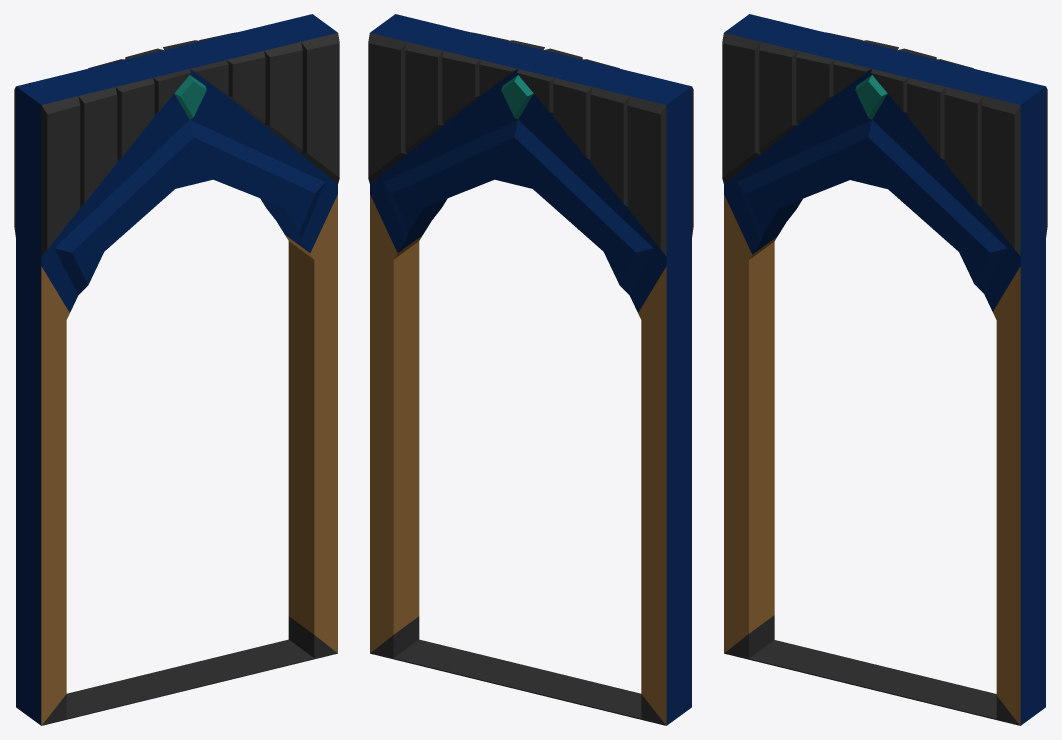
Rendered from AncientEgyptianDoorframe.glb.
3 views of the same model, side by side, from view 1: azimuth 30°, elevation 25°; view 2: azimuth 150°, elevation 25°; view 3: azimuth 330°, elevation 25° (orthographic).
Visible parts, largest first — view 1: wall_ancientEgyptian_door; view 2: wall_ancientEgyptian_door; view 3: wall_ancientEgyptian_door.
Part boxes in pixels (box(x1,y1,x2,y2)): wall_ancientEgyptian_door: box(14, 14, 339, 725); wall_ancientEgyptian_door: box(368, 14, 693, 725); wall_ancientEgyptian_door: box(722, 14, 1047, 725).
Size of what is drawn, in the model's own units: 2 by 4 by 0.3885.
Materials: 1 (1 with a texture image).
